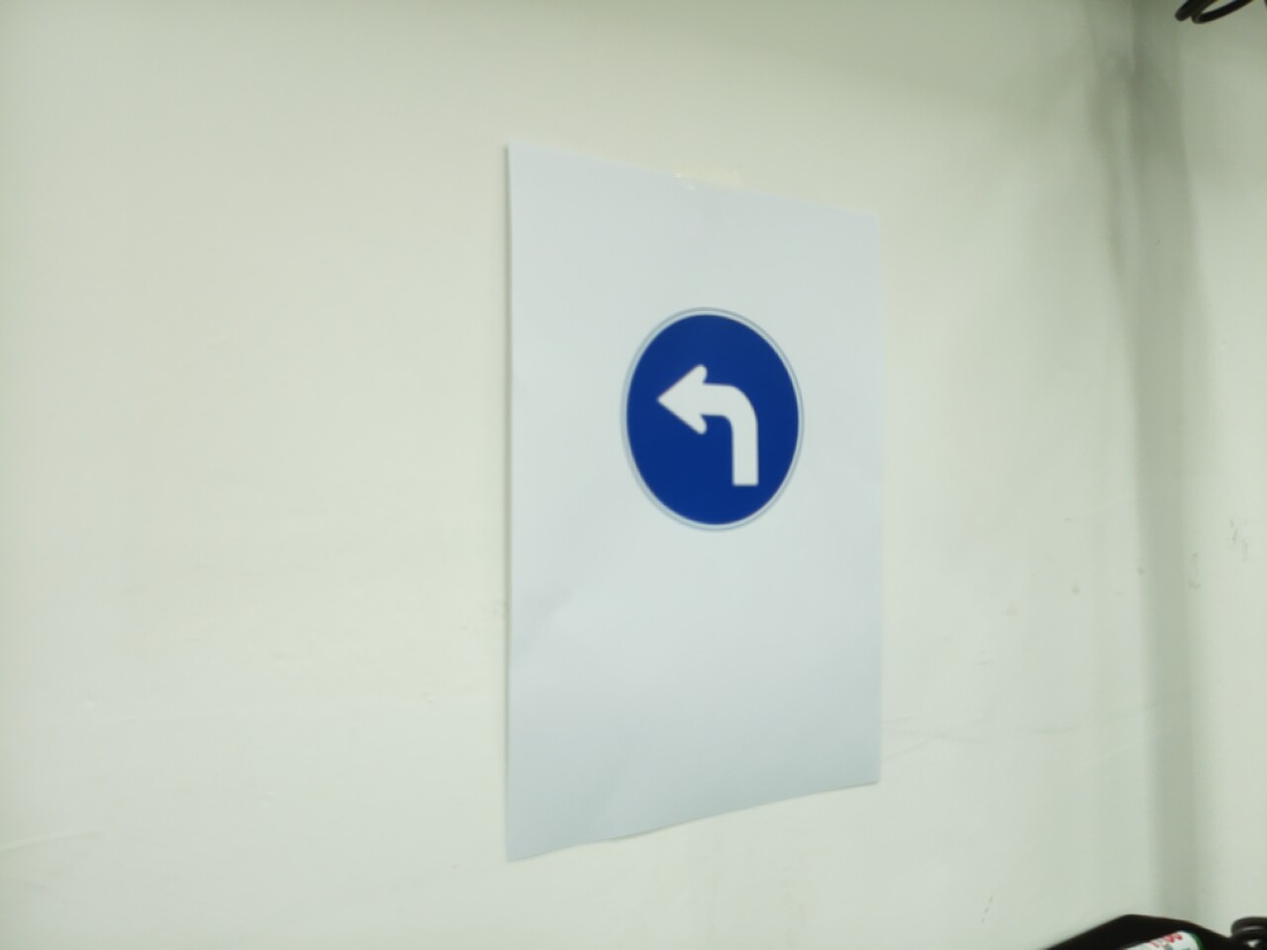left_turn: (620, 307, 806, 532)
